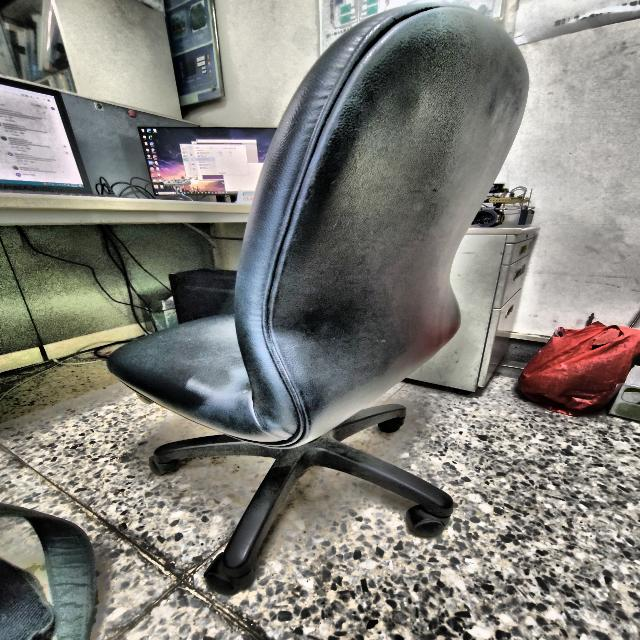cadeira: (103, 0, 544, 590)
